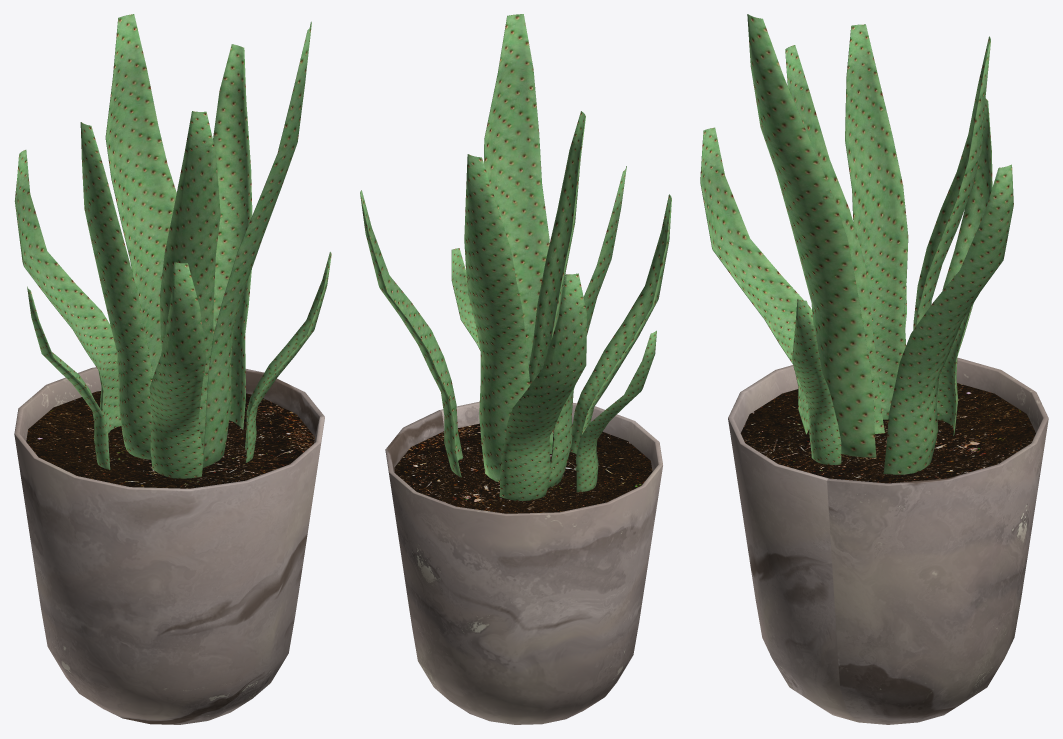
Rendered from floor_cactus_plant.fbx.
The picture shows the model from 3 angles, left to right: view 1: azimuth 30°, elevation 25°; view 2: azimuth 150°, elevation 25°; view 3: azimuth 270°, elevation 25°; orthographic projection. The views are drawn at different scales.
Visible parts, largest first — view 1: Cylinder.016; view 2: Cylinder.016; view 3: Cylinder.016.
Boxes of the visible parts, x1,y1,x2,y2 form: Cylinder.016: [14, 14, 331, 724]; Cylinder.016: [360, 14, 671, 724]; Cylinder.016: [700, 14, 1048, 724].
Bounding box in the file's own units: 48.44 × 116 × 51.06.
